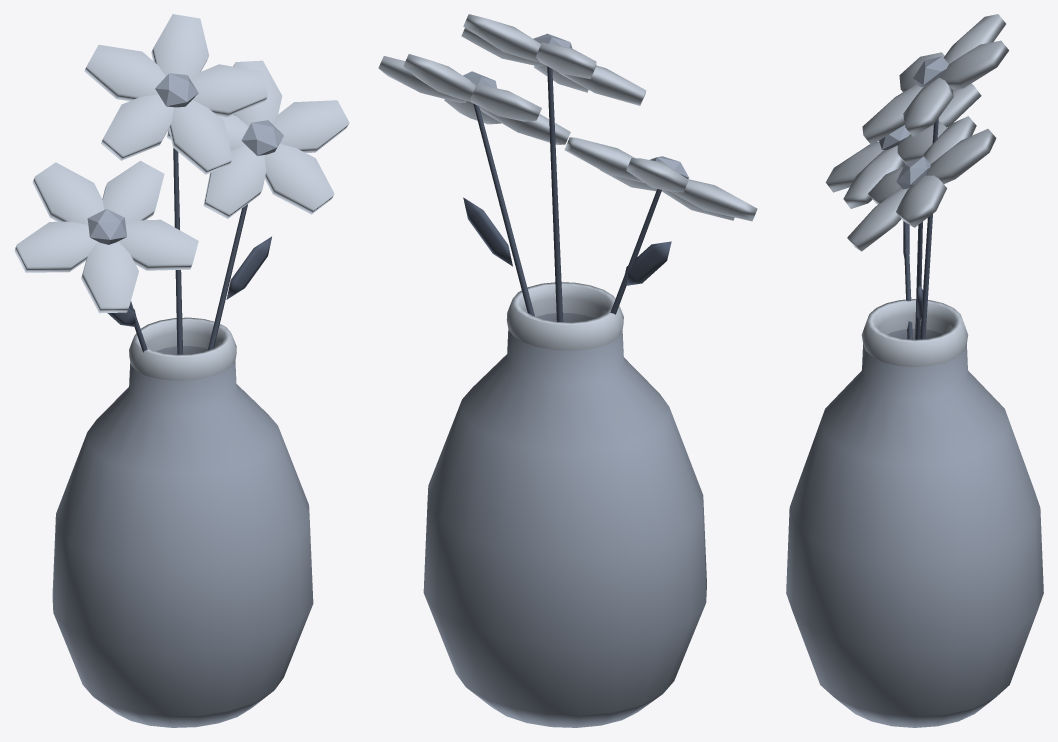
File: decor-vase-lite.glb
3 renders of one model, left to right at view 1: azimuth 30°, elevation 25°; view 2: azimuth 150°, elevation 25°; view 3: azimuth 270°, elevation 25°, orthographic. The views are drawn at different scales.
Parts seen in each view (by area): view 1: decor-vase; view 2: decor-vase; view 3: decor-vase.
Part boxes in pixels (left/top/right/bottom): decor-vase: left=14, top=14, right=349, bottom=727; decor-vase: left=378, top=14, right=757, bottom=727; decor-vase: left=786, top=14, right=1043, bottom=727.
Bounding box in the file's own units: 0.23 × 0.43 × 0.15.
